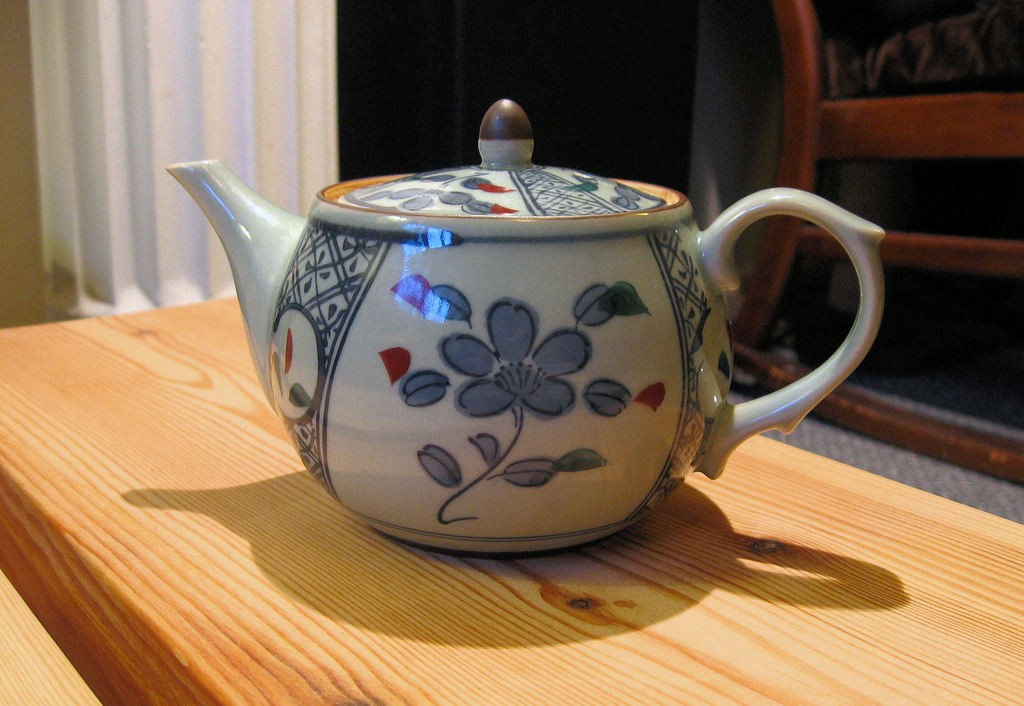teapot: (163, 98, 886, 554)
